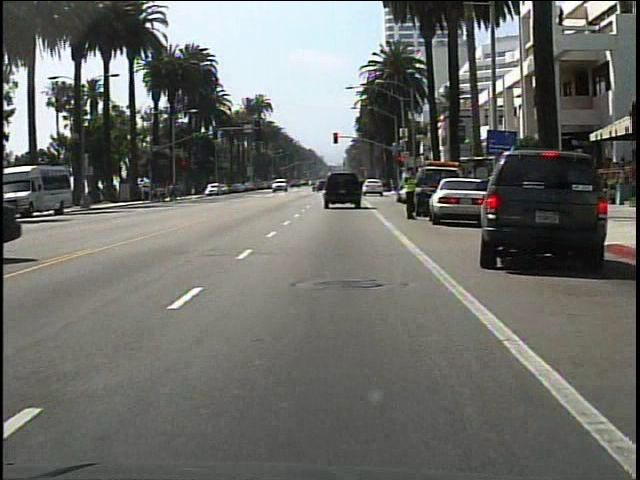person: (399, 164, 420, 220)
